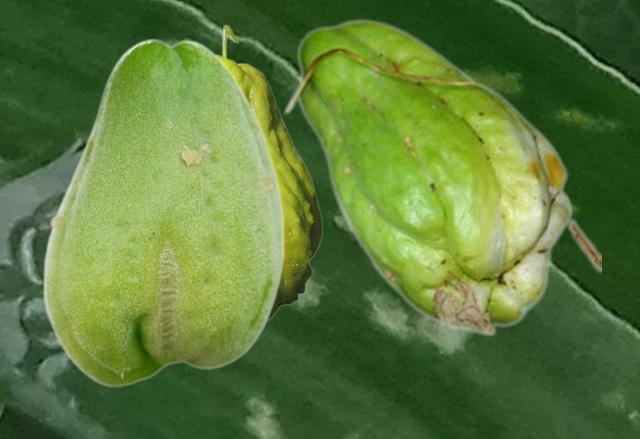sayote: (282, 18, 600, 336), (41, 37, 284, 386), (218, 24, 322, 319)
